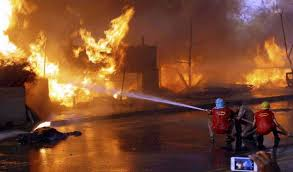fire: (80, 32, 122, 67), (29, 30, 59, 75), (1, 1, 24, 57), (252, 44, 281, 87), (50, 81, 87, 99)
smoke: (154, 1, 222, 20), (206, 27, 238, 54), (84, 4, 116, 17)
